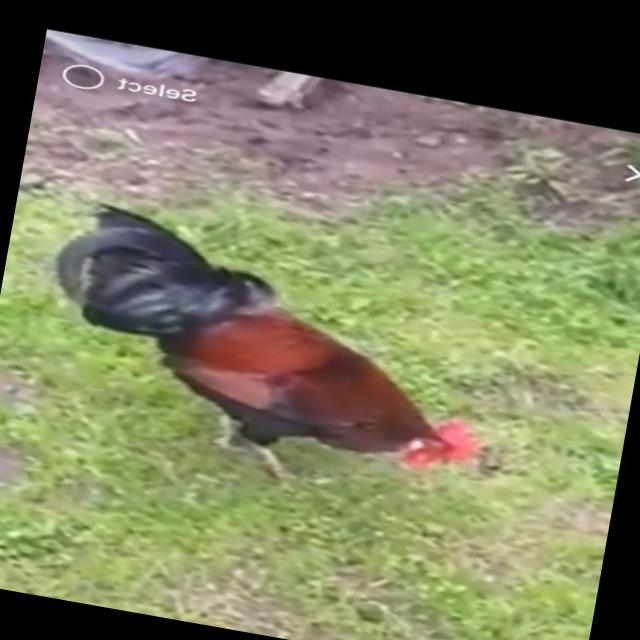feeding: (38, 210, 512, 520)
